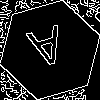A: (25, 25, 71, 78)
